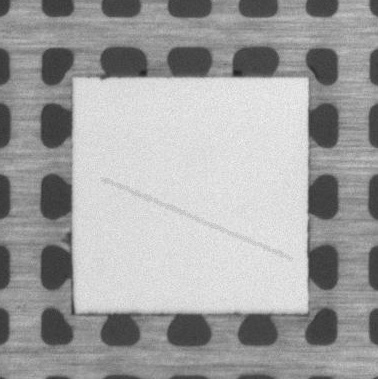DIE_CRACK: (103, 179, 291, 260)
